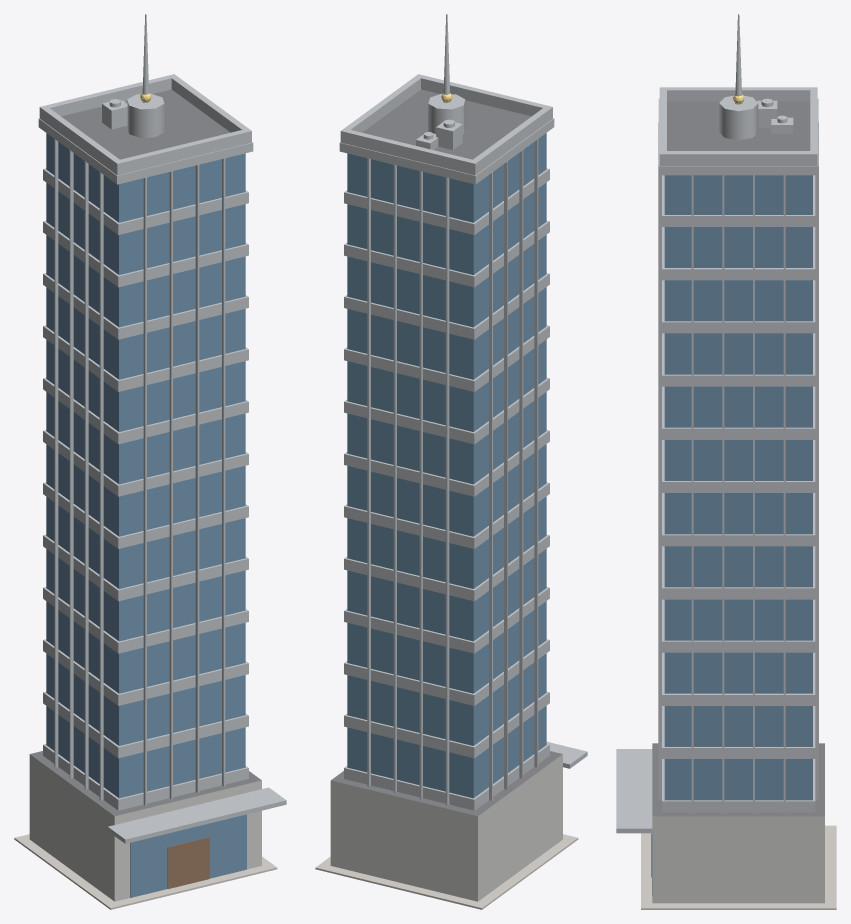
The picture shows the model from 3 angles, left to right: view 1: azimuth 30°, elevation 25°; view 2: azimuth 150°, elevation 25°; view 3: azimuth 270°, elevation 25°; orthographic projection.
Parts seen in each view (by area): view 1: c_3_1_a; view 2: c_3_1_a; view 3: c_3_1_a.
Boxes of the visible parts, x1=… form: c_3_1_a: x1=14, y1=14, x2=286, y2=909; c_3_1_a: x1=315, y1=14, x2=587, y2=909; c_3_1_a: x1=616, y1=14, x2=836, y2=909.
Bounding box in the file's own units: 12 × 57.8 × 13.5.
